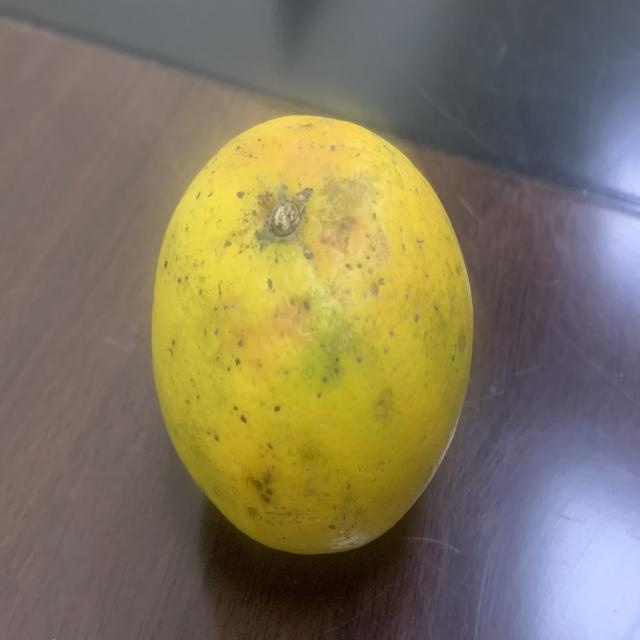agrume: (135, 104, 489, 571)
